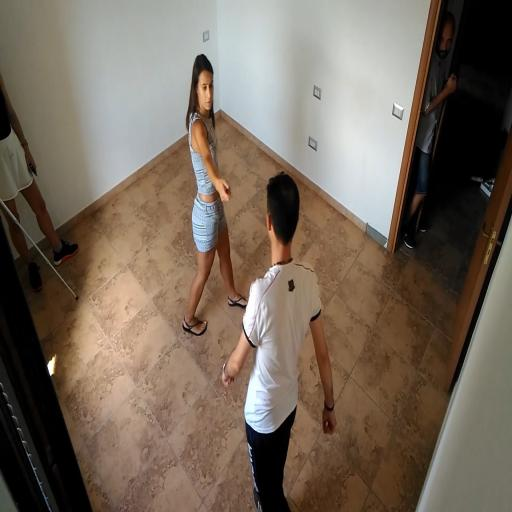nao-violencia: (174, 36, 342, 512)
